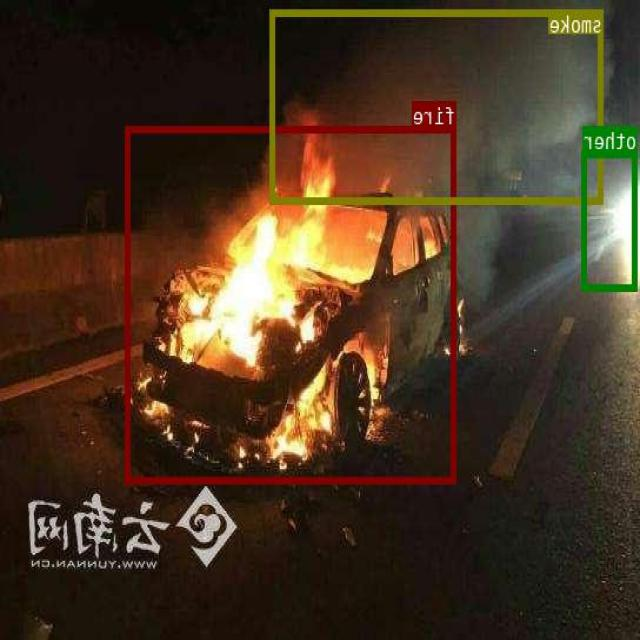fire: (126, 125, 458, 483)
other: (583, 150, 638, 290)
smoke: (272, 8, 604, 202)
